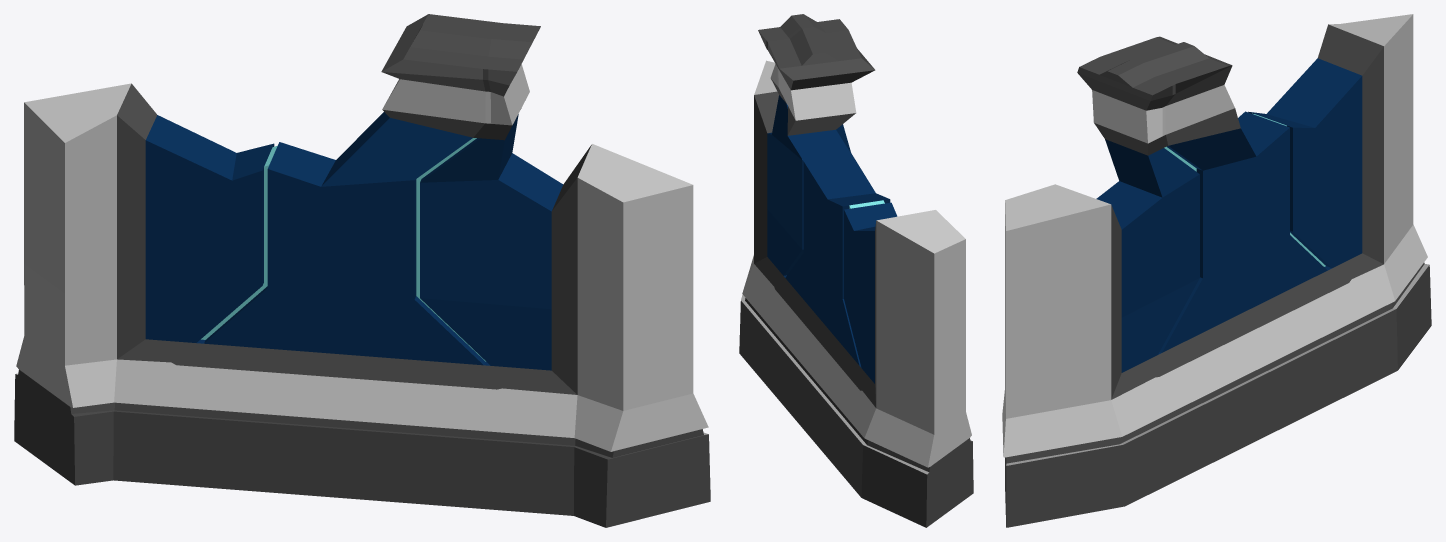
Rendered from Outer_Wall_Corner_Destroyed_A.fbx.
The picture shows the model from 3 angles, left to right: view 1: azimuth 30°, elevation 25°; view 2: azimuth 150°, elevation 25°; view 3: azimuth 270°, elevation 25°; orthographic projection. The views are drawn at different scales.
Visible parts, largest first — view 1: Outer_Corner_Wall_Destroyed_A; view 2: Outer_Corner_Wall_Destroyed_A; view 3: Outer_Corner_Wall_Destroyed_A.
Boxes of the visible parts, x1,y1,x2,y2 form: Outer_Corner_Wall_Destroyed_A: [14, 14, 710, 527]; Outer_Corner_Wall_Destroyed_A: [739, 14, 973, 527]; Outer_Corner_Wall_Destroyed_A: [1002, 14, 1431, 527].
Bounding box in the file's own units: 5.51 × 4.94 × 5.12.
